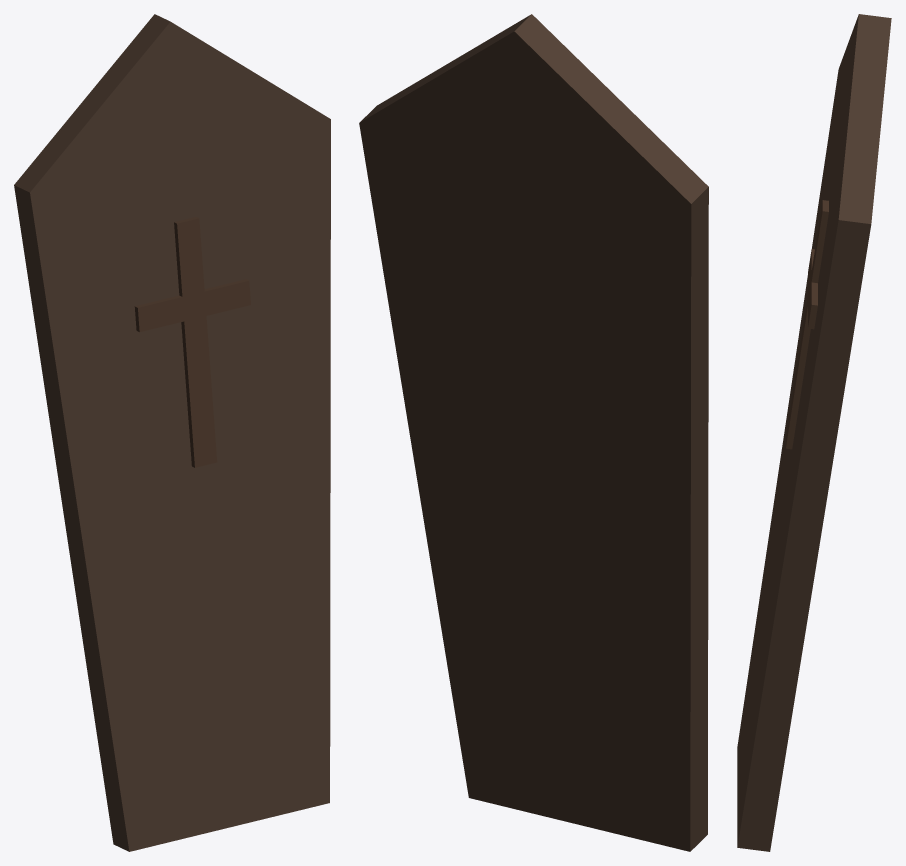
The model's file is coffin_lid.glb.
3 renders of one model, left to right at view 1: azimuth 30°, elevation 25°; view 2: azimuth 150°, elevation 25°; view 3: azimuth 270°, elevation 25°, orthographic. The views are drawn at different scales.
Parts seen in each view (by area): view 1: coffin_lid; view 2: coffin_lid; view 3: coffin_lid.
Boxes of the visible parts, x1,y1,x2,y2 form: coffin_lid: (14, 14, 330, 851); coffin_lid: (359, 14, 708, 851); coffin_lid: (737, 14, 891, 851).
Size of the model in its own units: 0.54 by 1.31 by 0.2332.
